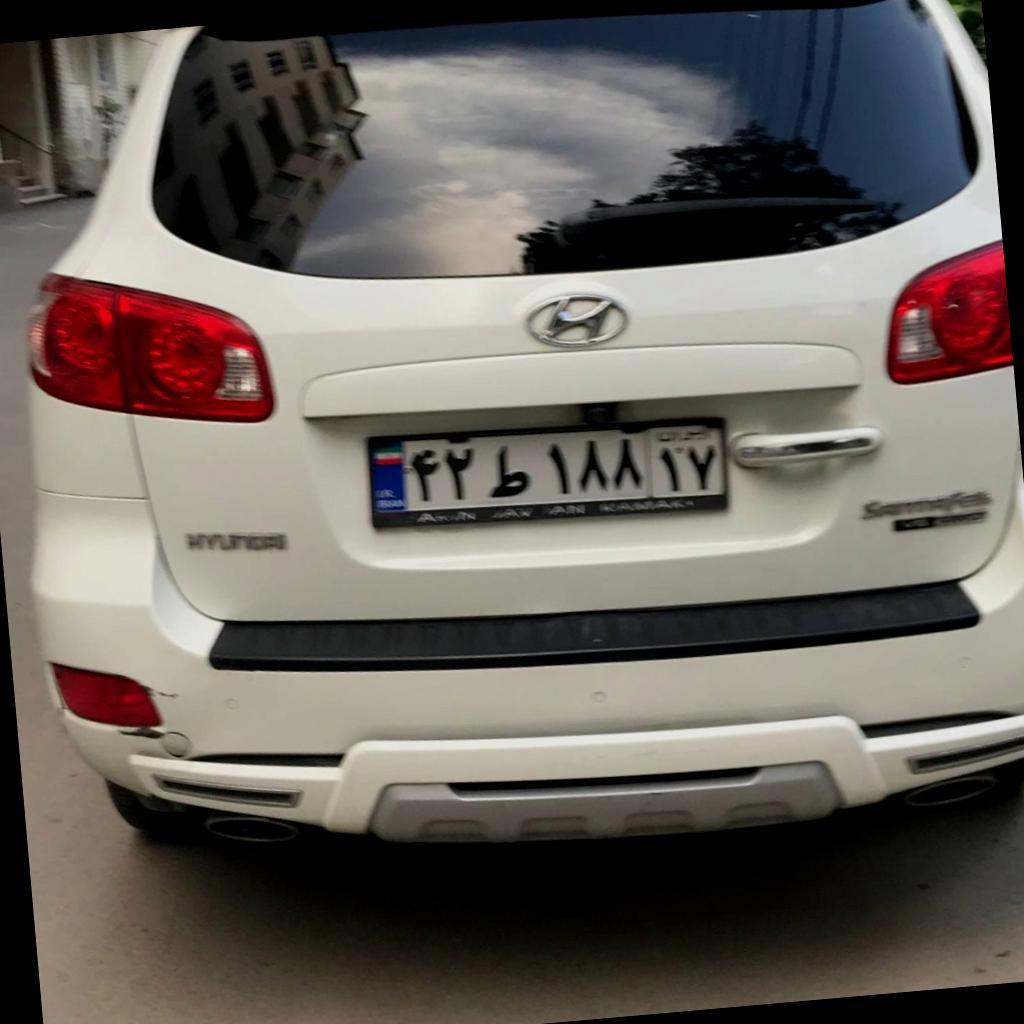Plates: (366, 425, 725, 514)
